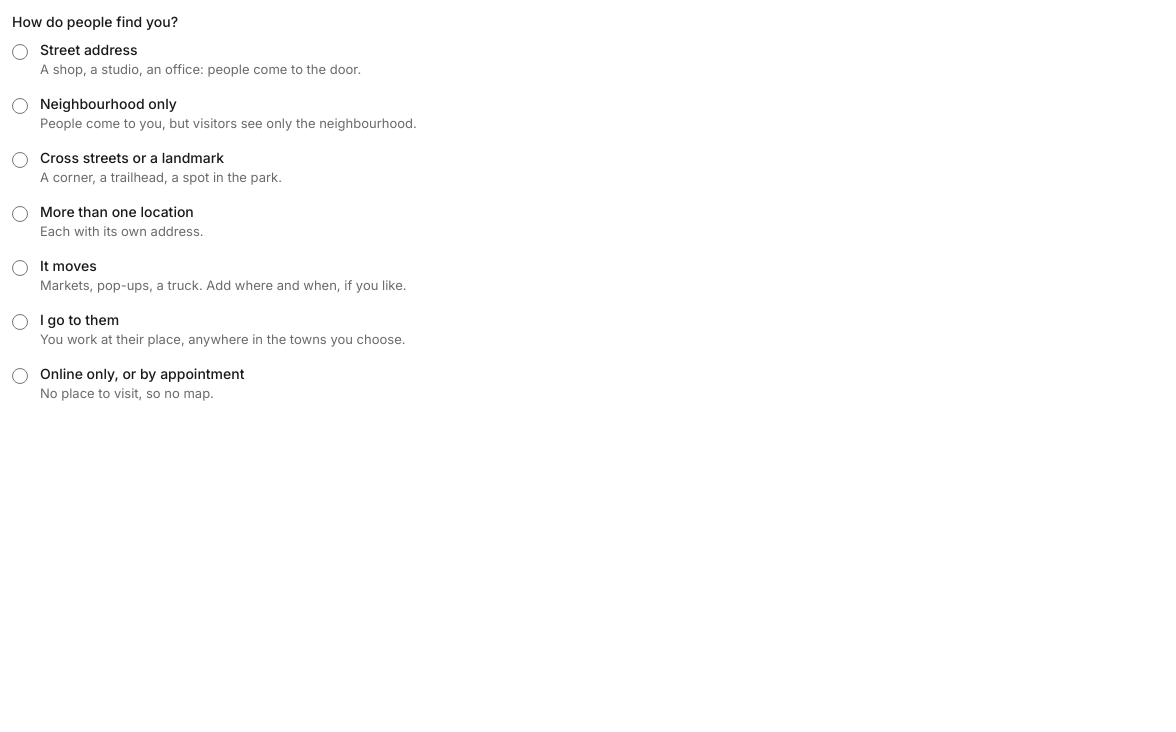
Street address, or the neighbourhood only › the suggestions are a listbox the arrow keys and Enter work
The width and height of the screenshot is (1176, 732).
Click the radio button labelled "Street address" at coordinates (20, 52), box [12,44,28,60]
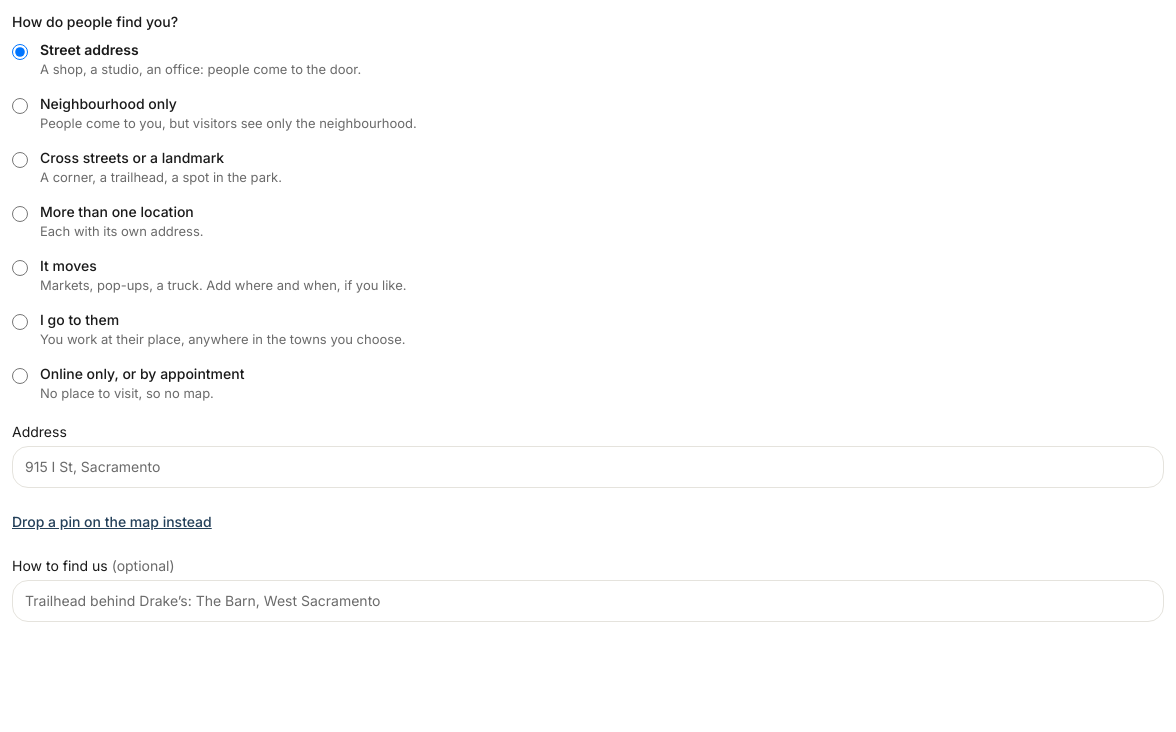
Type "915 I St" into the dropdown labelled "Address" at coordinates (588, 467), box [12,446,1164,488]
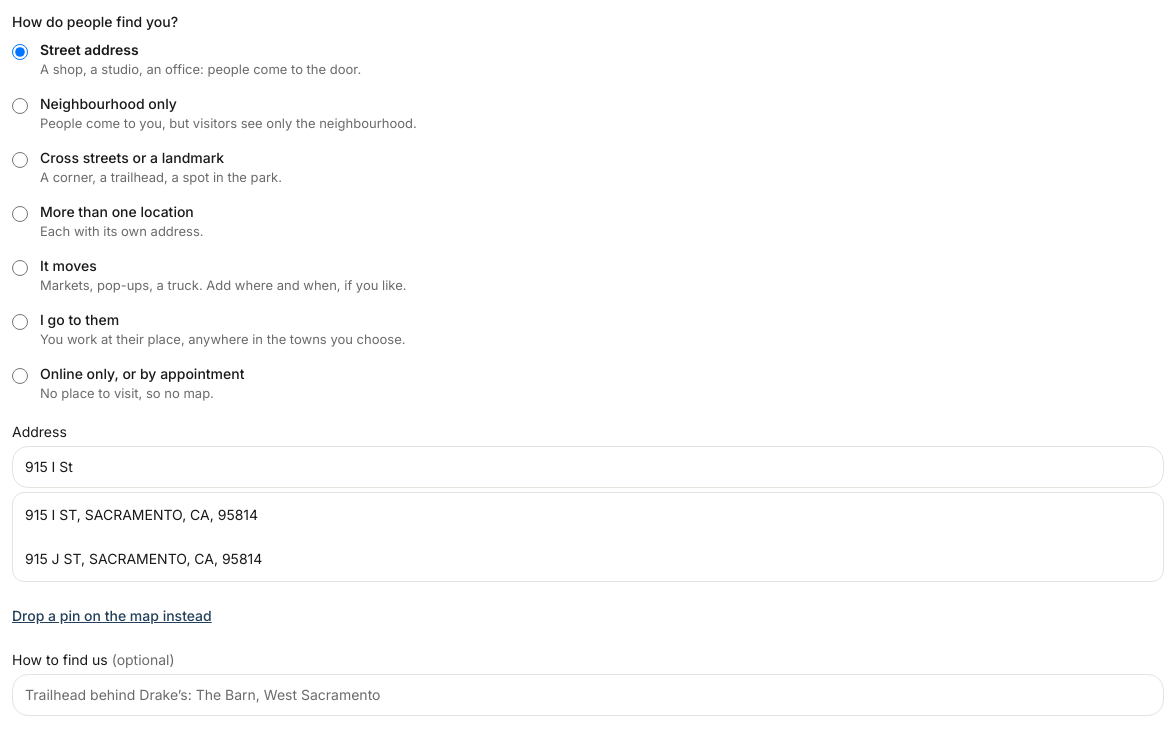
Expected: the dropdown labelled "Address" is expanded
Press ArrowDown in the dropdown labelled "Address", box [12,446,1164,488]
Press ArrowDown in the dropdown labelled "Address", box [12,446,1164,488]
Press Enter in the dropdown labelled "Address", box [12,446,1164,488]
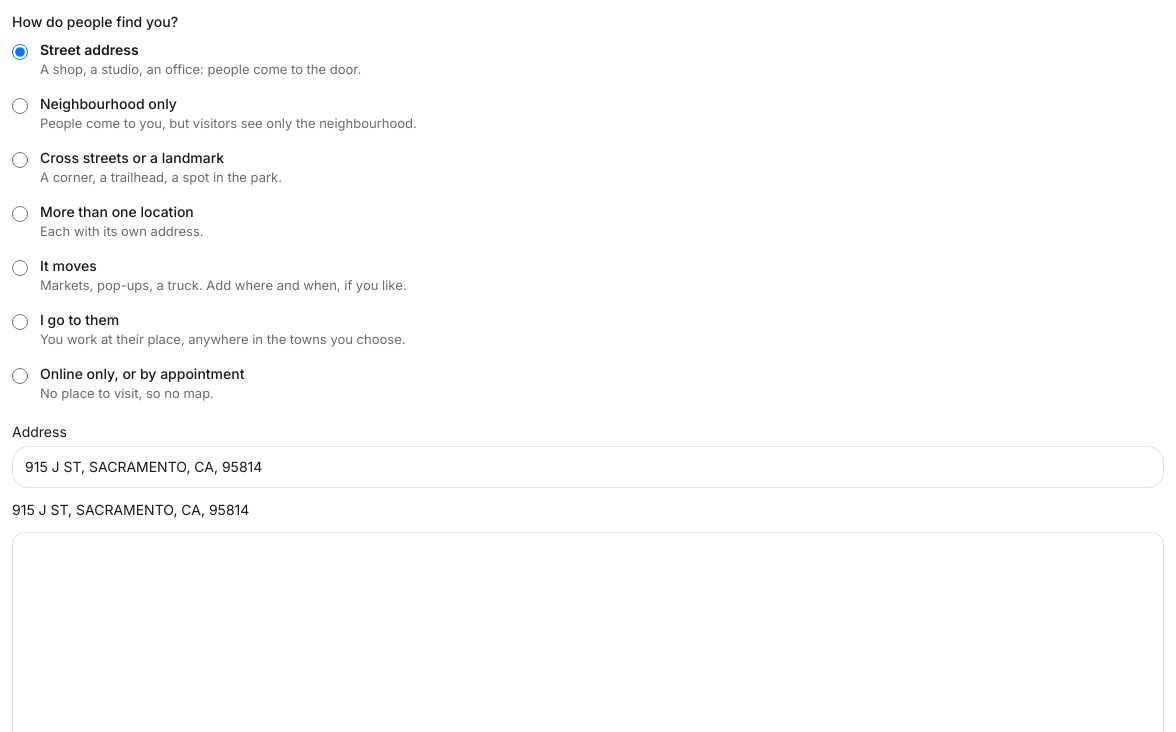
Expected: the dropdown labelled "Address" is collapsed, [12,446,1164,488]
